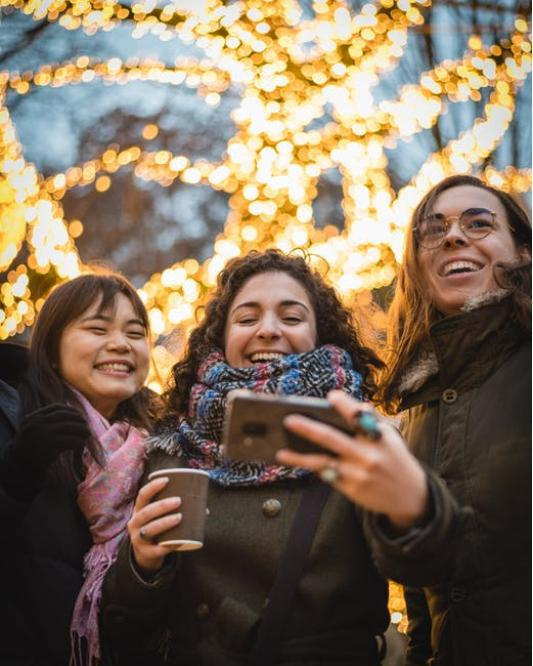face: (413, 186, 516, 309), (225, 272, 318, 381), (61, 290, 150, 400)
